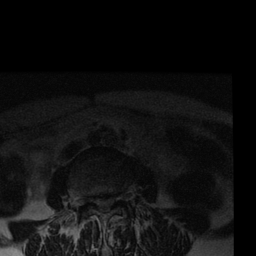CCS_stenosis: (100, 189, 107, 216)
LFS_stenosis: (114, 190, 120, 207)
LLS_stenosis: (108, 190, 114, 212)
RFS_stenosis: (88, 191, 96, 211)
RLS_stenosis: (94, 190, 100, 211)
